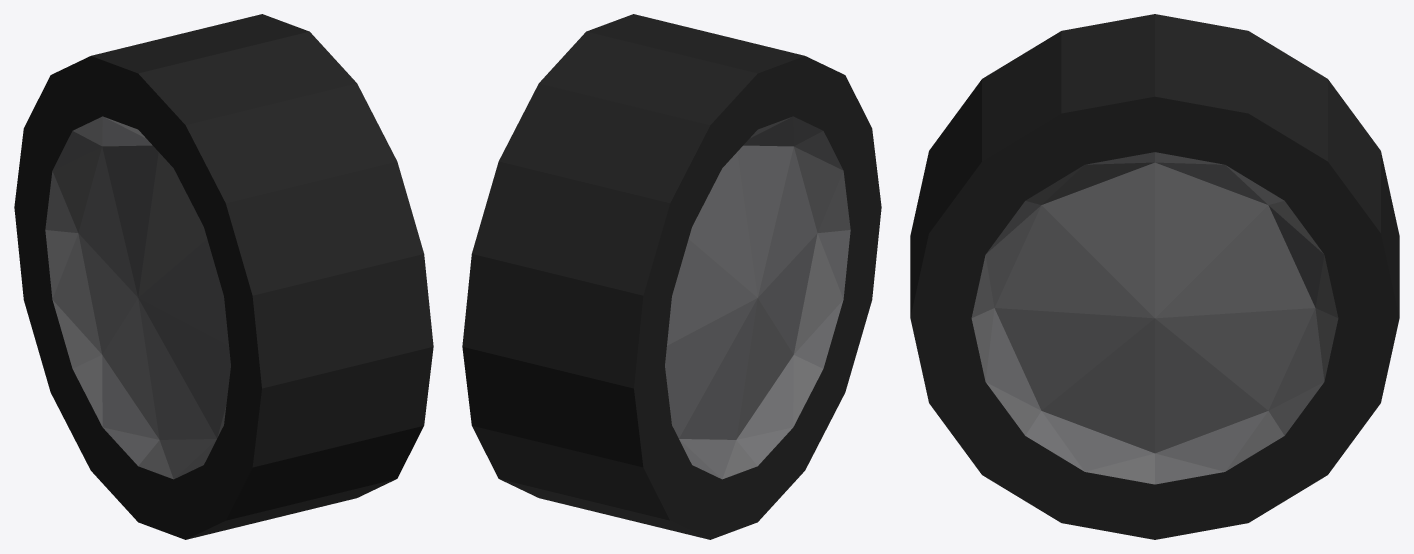
The model's file is wheel_2.glb.
The picture shows the model from 3 angles, left to right: view 1: azimuth 30°, elevation 25°; view 2: azimuth 150°, elevation 25°; view 3: azimuth 270°, elevation 25°; orthographic projection.
Parts seen in each view (by area): view 1: vehicles/wheel_2; view 2: vehicles/wheel_2; view 3: vehicles/wheel_2.
Part boxes in pixels (x1,y1,x2,y2): vehicles/wheel_2: (14, 14, 433, 539); vehicles/wheel_2: (462, 14, 881, 539); vehicles/wheel_2: (910, 14, 1399, 539).
Size of the model in its own units: 0.25 by 0.625 by 0.625.
Materials: 1 (1 with a texture image).
